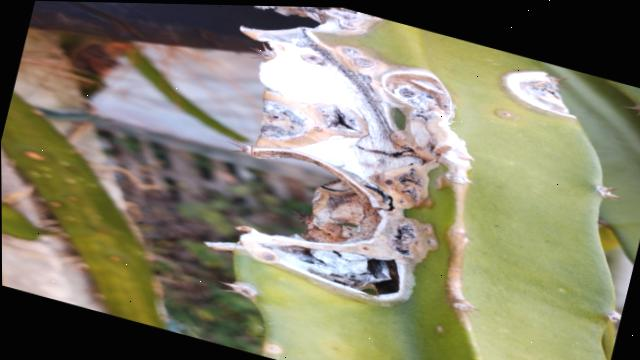stemcanker: (490, 102, 518, 126)
